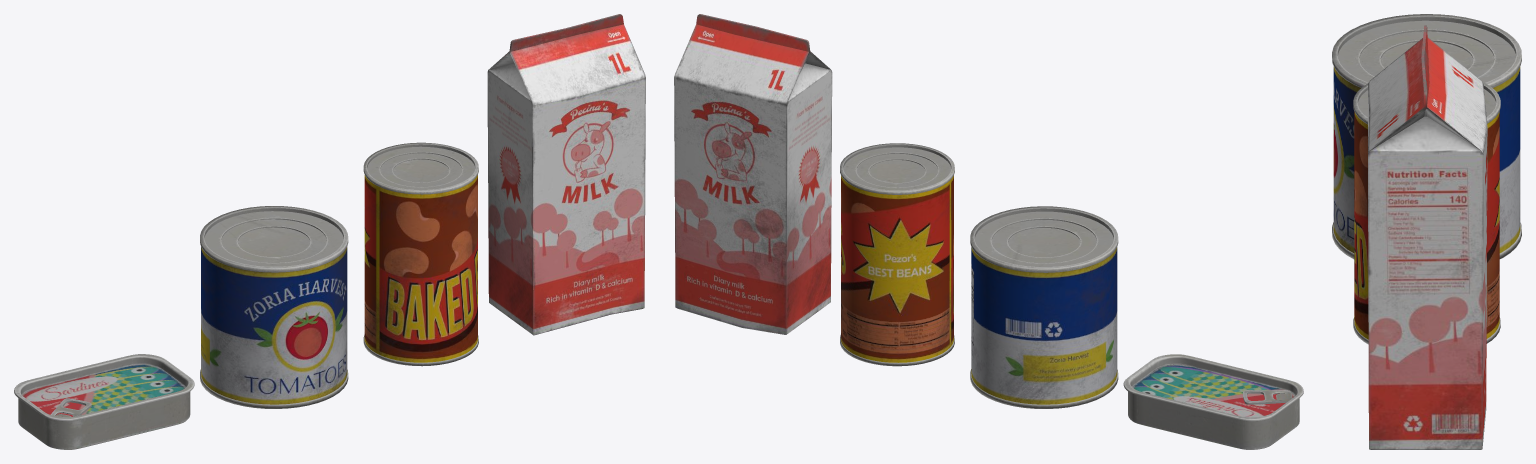
Rendered from long_life_food.glb.
3 views of the same model, side by side, from view 1: azimuth 30°, elevation 25°; view 2: azimuth 150°, elevation 25°; view 3: azimuth 270°, elevation 25° (orthographic). The views are drawn at different scales.
Visible parts, largest first — view 1: long_life_food_milk, long_life_food_tomatoes, long_life_food_beans, long_life_food_sardines; view 2: long_life_food_milk, long_life_food_tomatoes, long_life_food_beans, long_life_food_sardines; view 3: long_life_food_milk, long_life_food_tomatoes, long_life_food_beans.
Boxes of the visible parts, x1,y1,x2,y2 form: long_life_food_milk: [487, 14, 645, 335]; long_life_food_tomatoes: [200, 206, 348, 408]; long_life_food_beans: [363, 142, 478, 366]; long_life_food_sardines: [14, 354, 194, 449]; long_life_food_milk: [674, 14, 832, 334]; long_life_food_tomatoes: [970, 206, 1118, 408]; long_life_food_beans: [840, 143, 954, 366]; long_life_food_sardines: [1123, 354, 1303, 449]; long_life_food_milk: [1368, 25, 1487, 449]; long_life_food_tomatoes: [1332, 14, 1521, 259]; long_life_food_beans: [1353, 81, 1500, 344].
Bounding box in the file's own units: 0.5238 × 0.2376 × 0.1136.
1 material, 1 textured.
